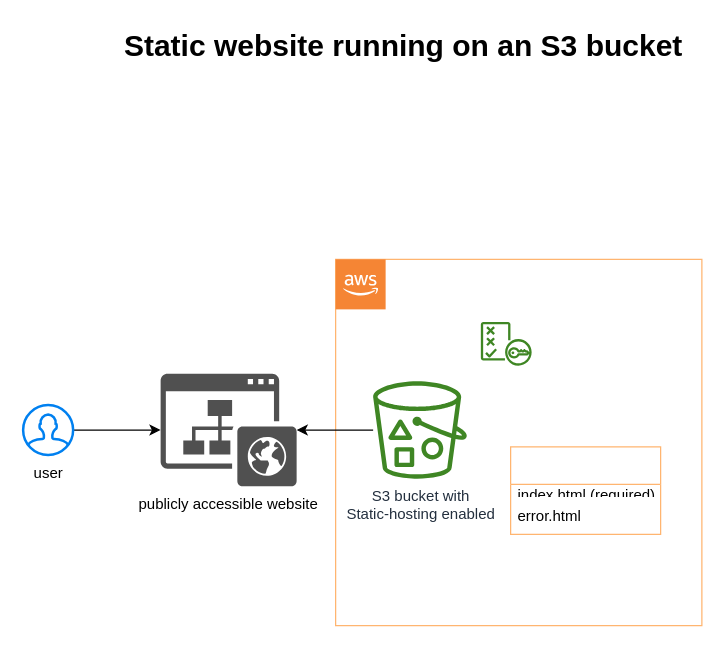
Image size: 724x648. Some labels were removed from this diagram. The shapes that lost their labels are listed below. From the top down, each one's box as (x1, y1, x2, y2) in pixels, then its label:
(480, 321, 531, 365): Bucket Policy allowing public access to objects
(509, 446, 661, 534): Objects
